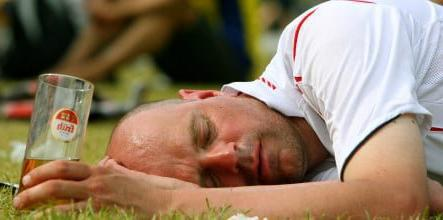Drunk: (124, 110, 305, 189)
